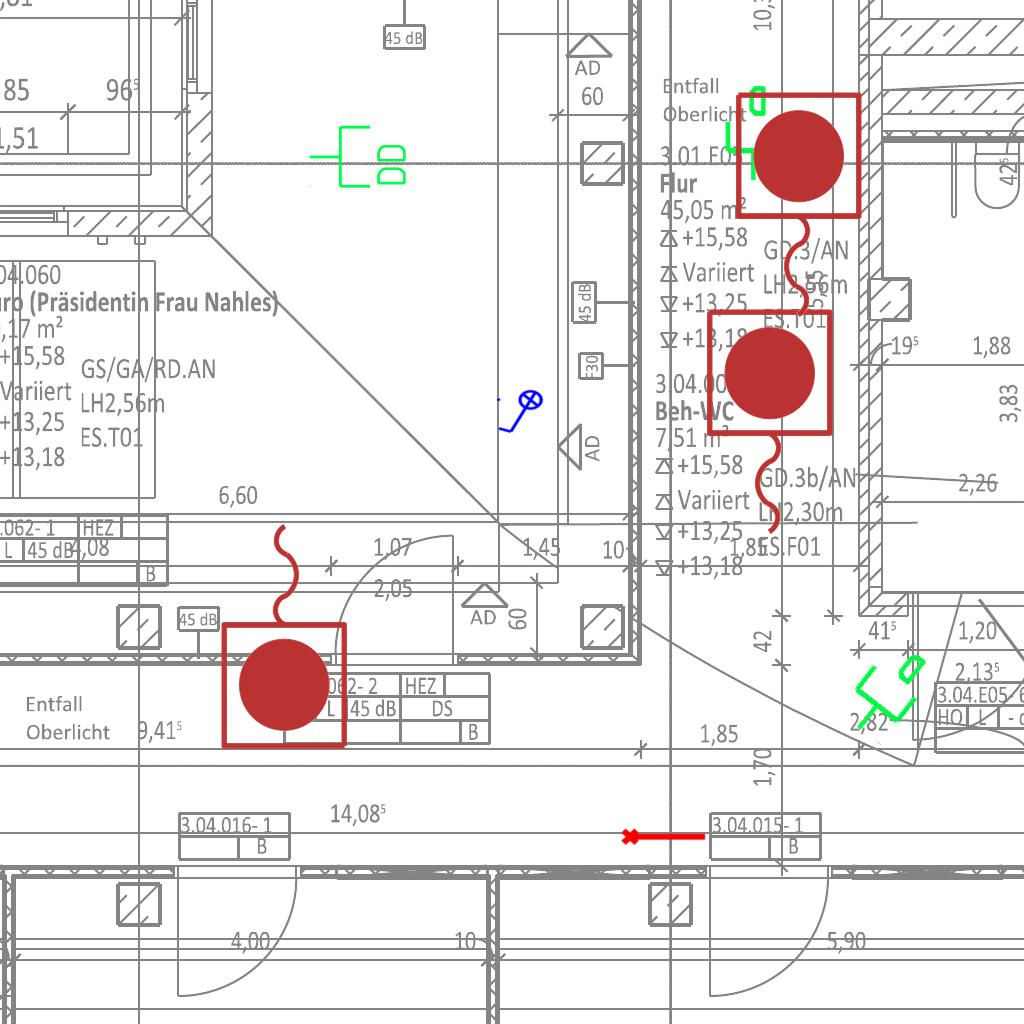ASR_Ansaugoeffnung: (620, 824, 708, 847)
Ausschalter_beleuchtet: (494, 389, 550, 437)
Datenanschluss_einfach: (828, 629, 945, 751), (717, 83, 786, 183)
Datenanschluss_zweifach: (307, 123, 410, 192)
Zugtaster: (214, 513, 358, 757), (696, 301, 840, 545), (725, 84, 869, 328)
